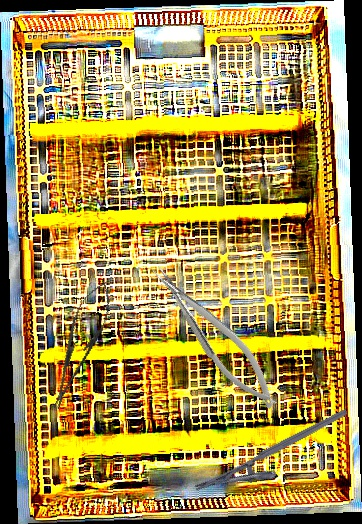Needle Holder: (145, 253, 287, 420), (193, 408, 359, 512), (40, 275, 120, 415)
